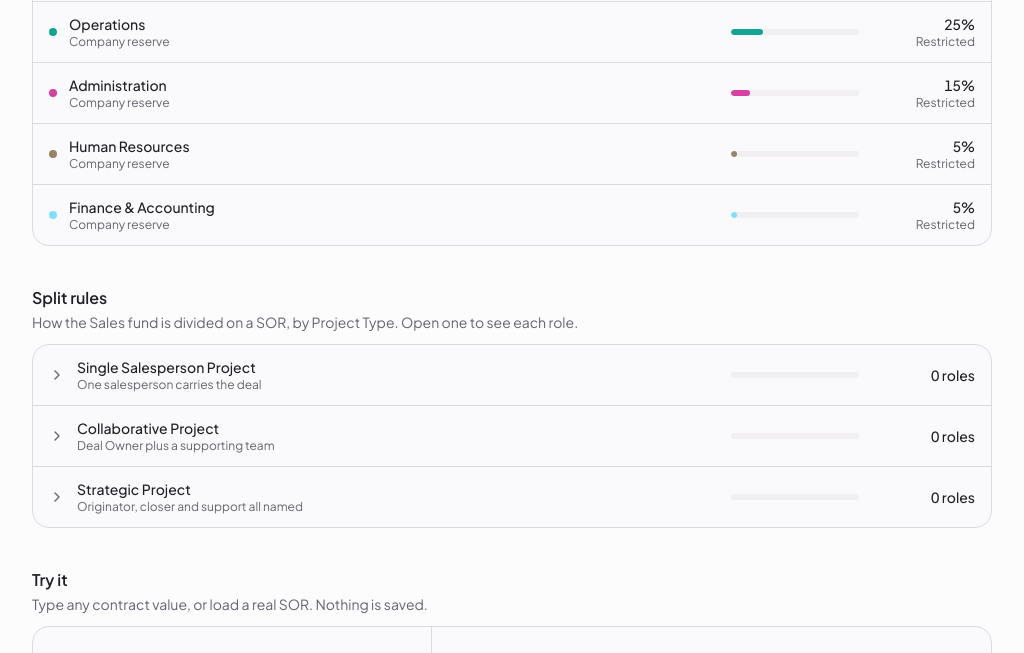
Test: CommissionDashboardView › Formula tab › shows a Sales Director the split read-only until they press Edit, and Cancel goes back
(page scrolled)
Click the button "Single Salesperson Project" at (166,367), box x1=33 y1=345 x2=991 y2=405
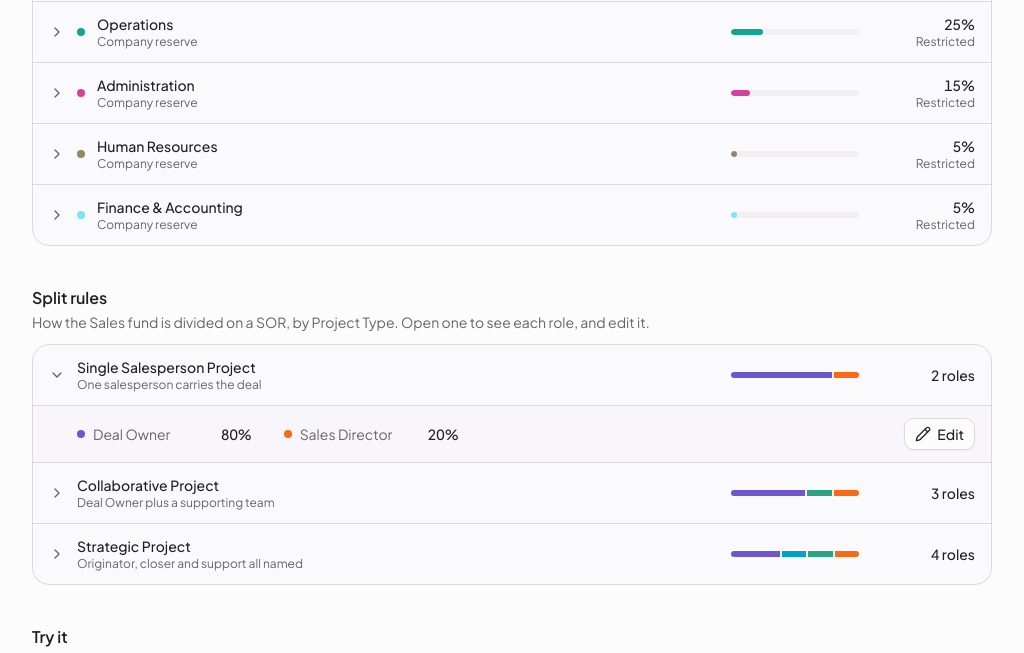
expect the button "Save split" is not shown: met
expect the button "Edit" is shown: met
expect the text "80%" is shown: met, box x1=221 y1=424 x2=252 y2=444
Click the button "Edit" at (940,434), box x1=904 y1=418 x2=975 y2=450
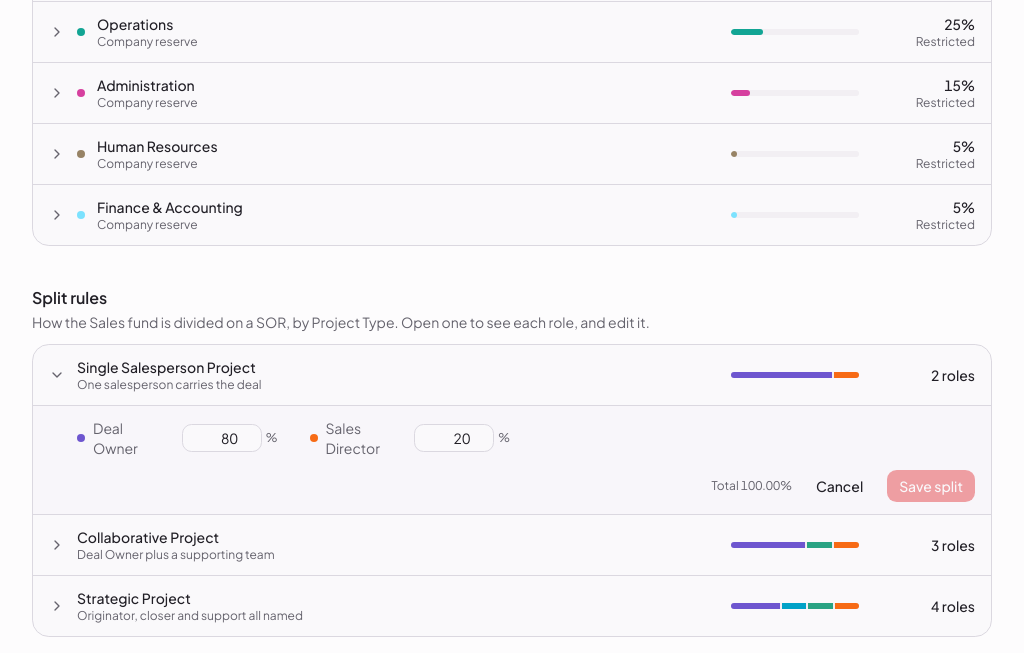
expect the number field named "Deal Owner percent" is shown: met, box x1=182 y1=424 x2=262 y2=452
Click the button "Cancel" at (840,486), box x1=804 y1=470 x2=875 y2=502
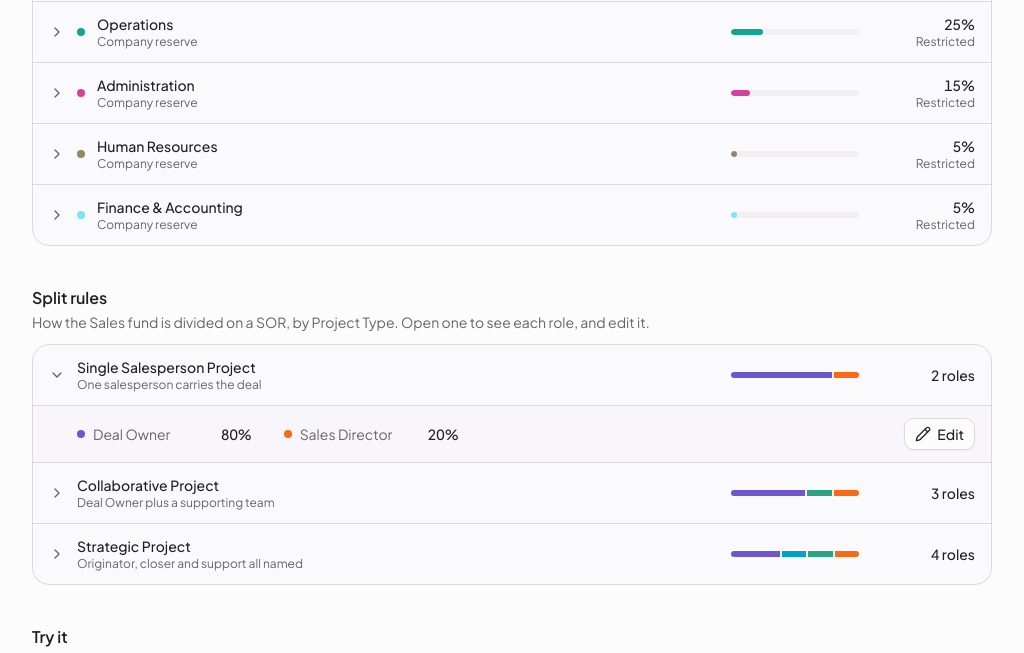
expect the button "Edit" is shown: met, box x1=904 y1=418 x2=975 y2=450
